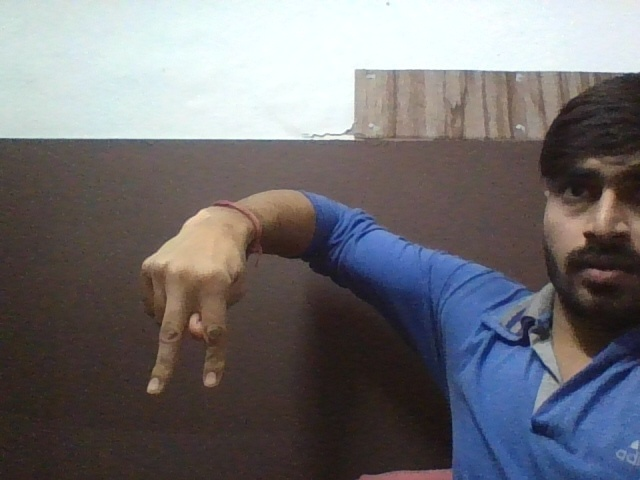P: (114, 233, 261, 407)
